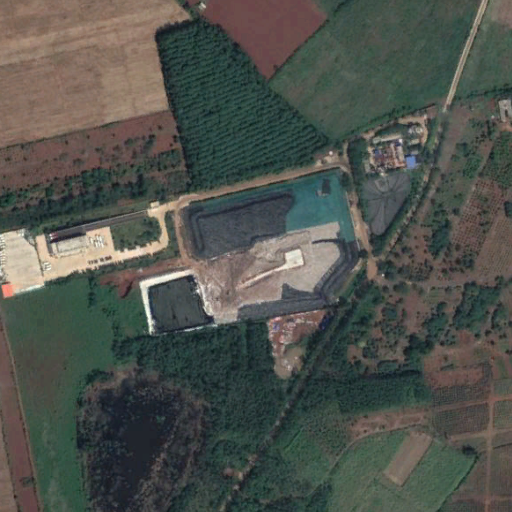lf: (145, 161, 359, 335)
